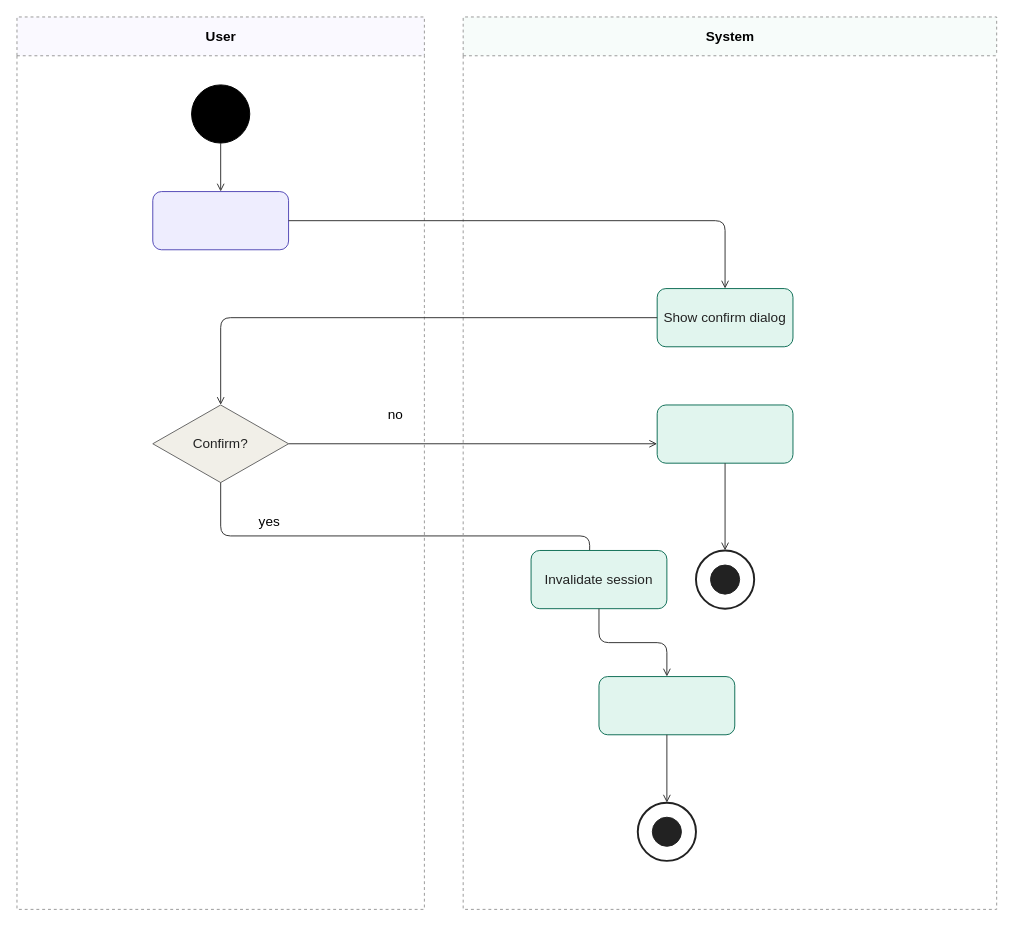
Image size: 1014x926. Some labels were removed from this diagram. The shapes that lost their labels are listed below. From the top down, each one's box as (x1, y1, x2, y2) in pixels, then its label:
(152, 191, 289, 250): Click Log out
(656, 404, 793, 463): Close dialog
(598, 676, 735, 735): Redirect to Login
